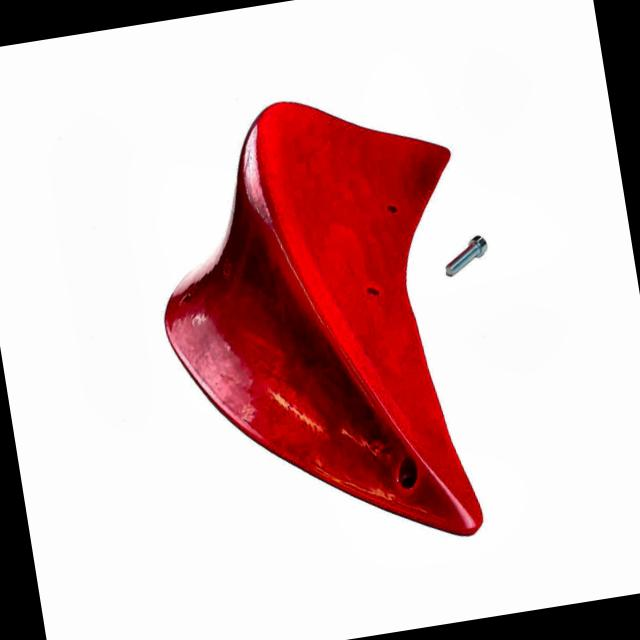Hold: (157, 105, 491, 544)
